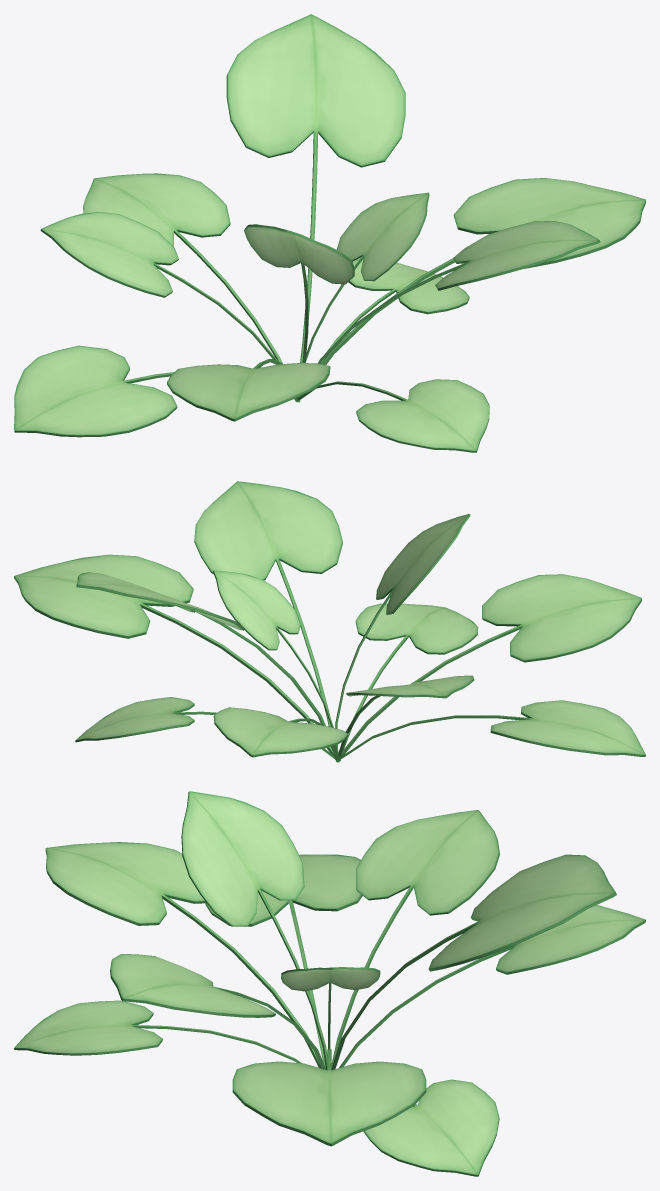
Rendered from plant2_green.fbx.
3 renders of one model, top to bottom at view 1: azimuth 30°, elevation 25°; view 2: azimuth 150°, elevation 25°; view 3: azimuth 270°, elevation 25°, orthographic. The views are drawn at different scales.
Parts seen in each view (by area): view 1: pPlane317, pPlane320, pPlane315, pPlane321, pPlane323, pPlane322, pPlane324, pPlane316, pPlane325, pPlane319, pPlane318; view 2: pPlane316, pPlane324, pPlane315, pPlane320, pPlane322, pPlane321, pPlane325, pPlane319, pPlane318, pPlane317, pPlane323; view 3: pPlane319, pPlane315, pPlane323, pPlane317, pPlane324, pPlane318, pPlane322, pPlane316, pPlane321, pPlane320, pPlane325.
Boxes of the visible parts, box(x1,y1,x2,y2) form: pPlane317: box(226, 14, 405, 402); pPlane320: box(14, 345, 297, 437); pPlane315: box(298, 178, 645, 402); pPlane321: box(83, 173, 282, 363); pPlane323: box(40, 212, 278, 361); pPlane322: box(297, 379, 489, 452); pPlane324: box(167, 359, 330, 421); pPlane316: box(295, 221, 600, 401); pPlane325: box(305, 192, 429, 362); pPlane319: box(244, 224, 354, 362); pPlane318: box(320, 257, 469, 363); pPlane316: box(194, 481, 342, 761); pPlane324: box(337, 574, 641, 762); pPlane315: box(14, 554, 339, 762); pPlane320: box(339, 700, 645, 760); pPlane322: box(343, 603, 478, 749); pPlane321: box(213, 707, 348, 760); pPlane325: box(213, 570, 338, 753); pPlane319: box(335, 514, 470, 761); pPlane318: box(75, 697, 335, 759); pPlane317: box(76, 572, 340, 761); pPlane323: box(338, 675, 474, 757); pPlane319: box(181, 791, 327, 1069); pPlane315: box(232, 1049, 426, 1146); pPlane323: box(331, 810, 499, 1067); pPlane317: box(331, 854, 616, 1069); pPlane324: box(45, 842, 321, 1068); pPlane318: box(363, 1079, 499, 1176); pPlane322: box(14, 1000, 301, 1063); pPlane316: box(110, 954, 326, 1069); pPlane321: box(339, 905, 645, 1067); pPlane320: box(205, 854, 362, 1066); pPlane325: box(281, 967, 380, 1049).
Size of the model in its own units: 5.38 by 1.99 by 4.2.
